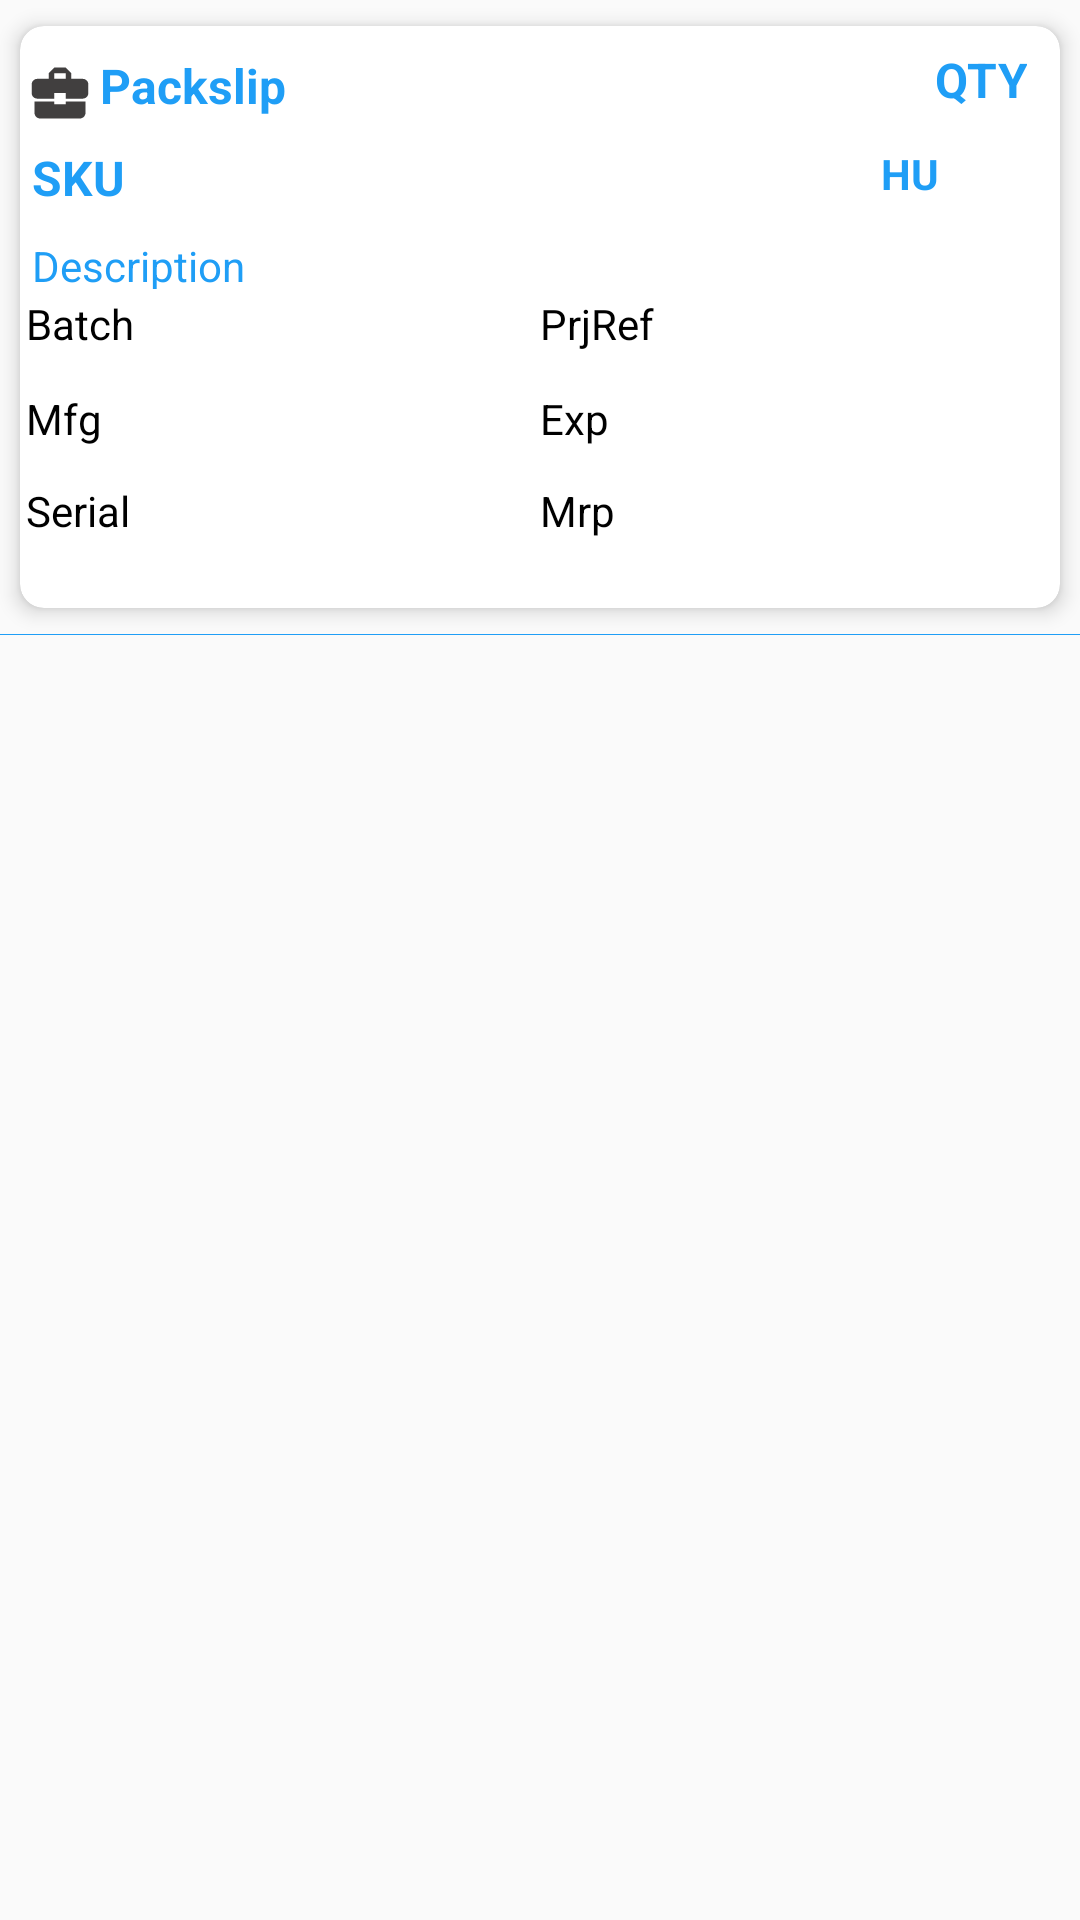

Icon click points for this 1080×1920 phone screenshot, format [x,y]:
sku bag: [60,93]
